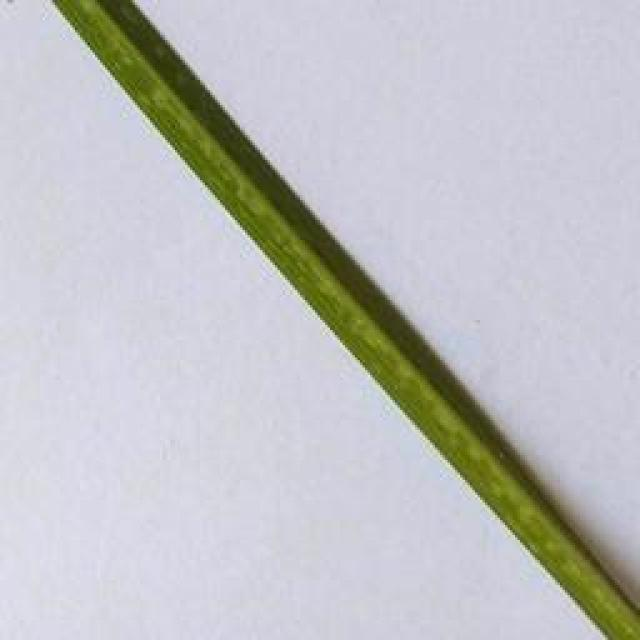Healthy-Plant: (42, 0, 640, 640)
